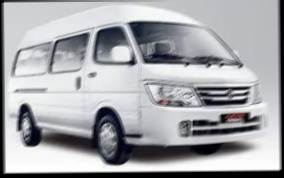van: (4, 2, 274, 165)
